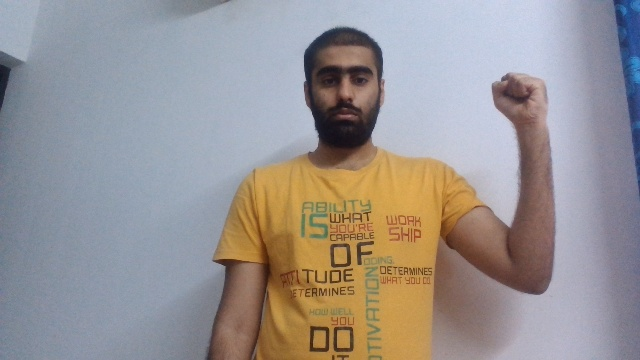rock: (490, 70, 548, 124)
